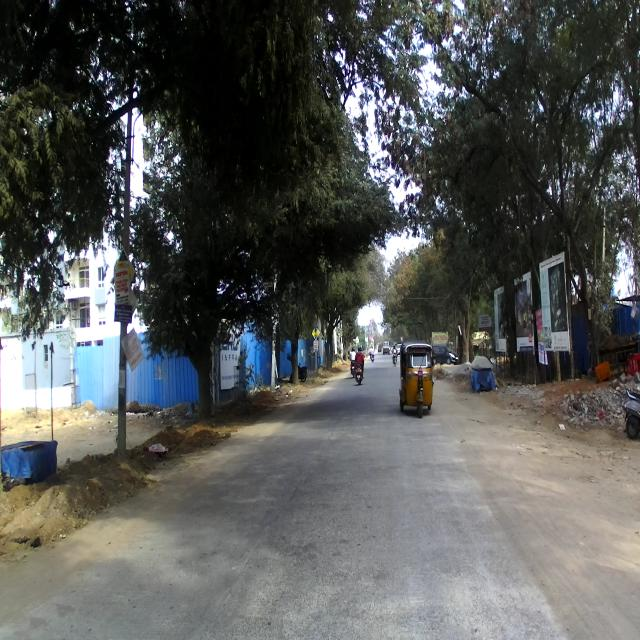auto ahead at: (394, 340, 439, 420)
electric pole ahead at: (108, 68, 139, 454)
tree ahead at: (150, 204, 236, 423)
